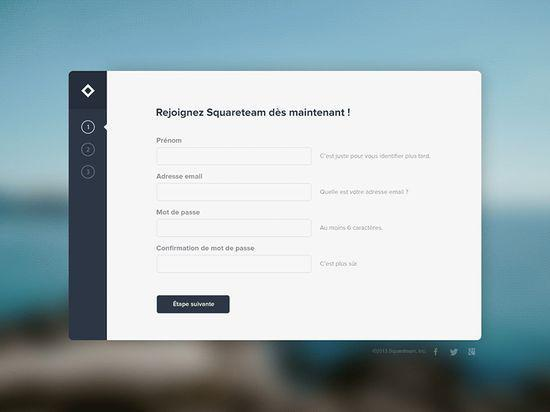button: (157, 295, 231, 315)
input: (157, 181, 314, 204), (156, 147, 314, 167), (156, 219, 313, 239), (157, 255, 313, 275)
label: (156, 245, 258, 254), (156, 172, 205, 181), (157, 210, 201, 217), (155, 138, 184, 146)
